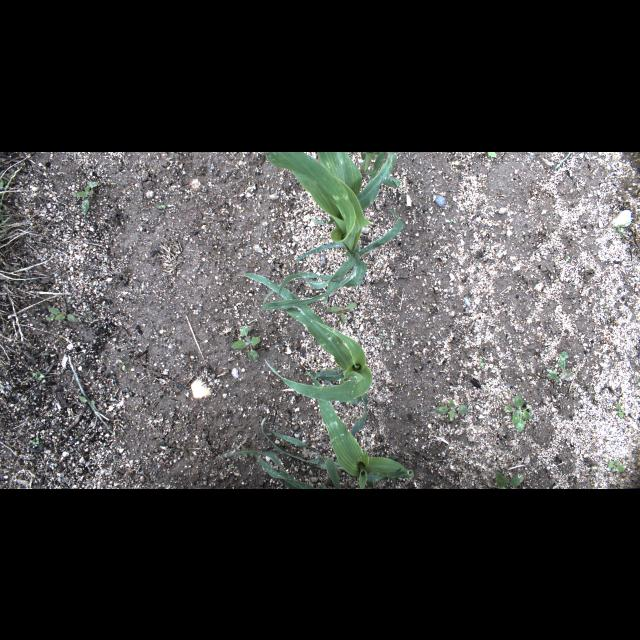crop: (258, 152, 404, 308), (260, 370, 416, 486), (246, 272, 374, 403), (220, 446, 316, 486)
weed: (506, 396, 536, 438), (233, 323, 260, 361), (544, 350, 574, 382), (74, 179, 98, 217), (436, 398, 469, 424), (330, 300, 362, 322), (46, 304, 80, 324), (491, 470, 529, 486), (610, 397, 628, 425), (606, 458, 628, 474), (78, 394, 102, 408), (28, 436, 42, 449), (30, 370, 46, 380)
